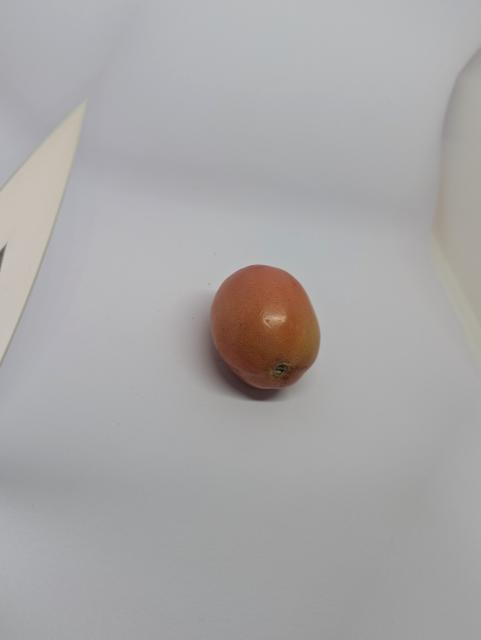turning: (205, 258, 327, 399)
